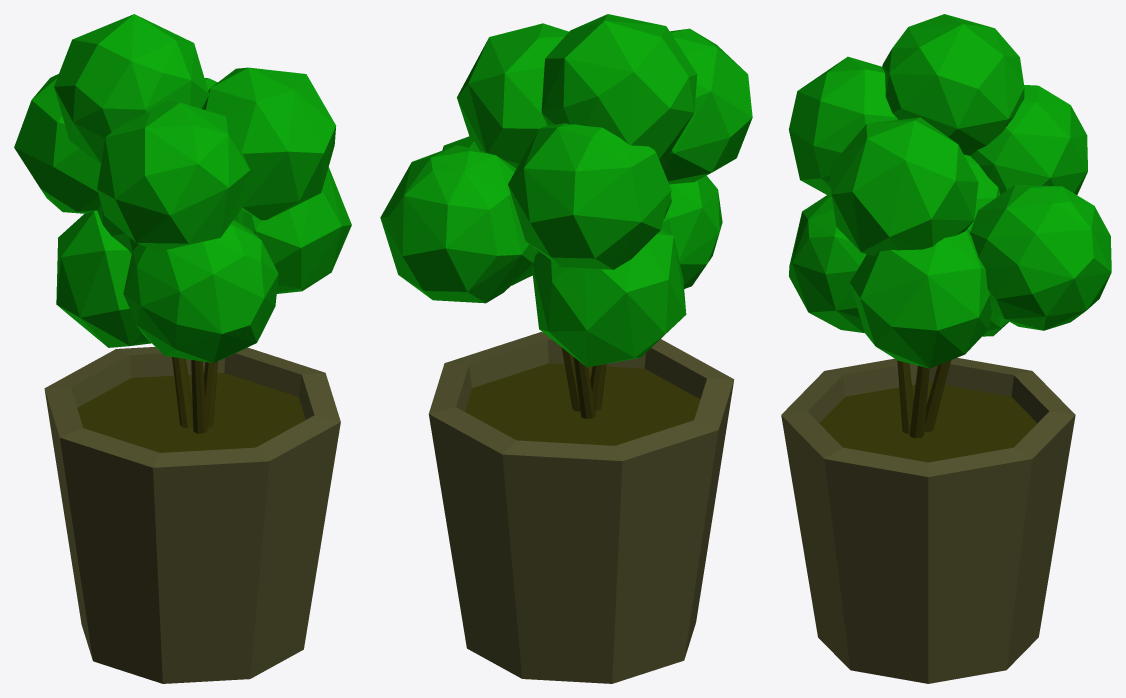
File: Bush.fbx
The picture shows the model from 3 angles, left to right: view 1: azimuth 30°, elevation 25°; view 2: azimuth 150°, elevation 25°; view 3: azimuth 270°, elevation 25°; orthographic projection. The views are drawn at different scales.
Visible parts, largest first — view 1: Sphere.008, Cylinder, BezierCurve; view 2: Sphere.008, Cylinder, BezierCurve; view 3: Sphere.008, Cylinder, BezierCurve.
Boxes of the visible parts, bbox=[...] form: Sphere.008: bbox=[14, 14, 351, 362]; Cylinder: bbox=[44, 347, 340, 683]; BezierCurve: bbox=[172, 357, 217, 433]; Sphere.008: bbox=[380, 14, 752, 367]; Cylinder: bbox=[428, 332, 734, 683]; BezierCurve: bbox=[549, 124, 606, 418]; Sphere.008: bbox=[788, 14, 1111, 368]; Cylinder: bbox=[781, 357, 1075, 683]; BezierCurve: bbox=[897, 125, 1007, 438].
Size of the model in its own units: 62.9 by 134 by 67.37.
